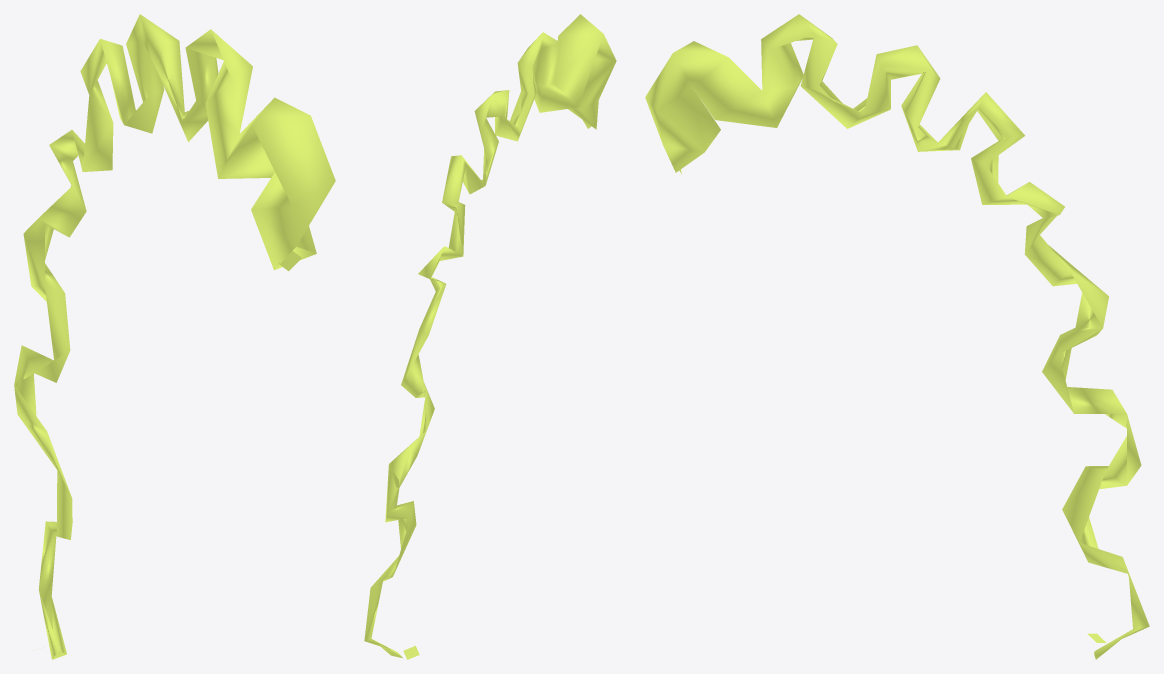
The model's file is caballo-001.gltf.
3 renders of one model, left to right at view 1: azimuth 30°, elevation 25°; view 2: azimuth 150°, elevation 25°; view 3: azimuth 270°, elevation 25°, orthographic. The views are drawn at different scales.
Visible parts, largest first — view 1: Caballo-f.001; view 2: Caballo-f.001; view 3: Caballo-f.001.
Part boxes in pixels (x1,y1,x2,y2): Caballo-f.001: [14, 14, 335, 659]; Caballo-f.001: [364, 14, 616, 659]; Caballo-f.001: [645, 14, 1149, 659].
Bounding box in the file's own units: 0.0466 × 0.4974 × 0.36.
1 material, 1 textured.
